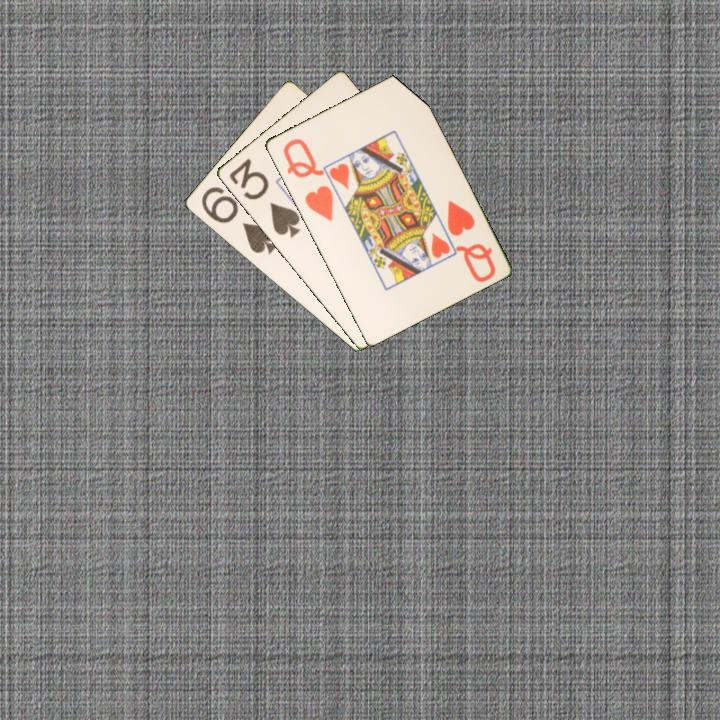3s: (225, 155, 303, 241)
6s: (197, 183, 280, 257)
Qh: (279, 135, 336, 224), (443, 196, 498, 285)
